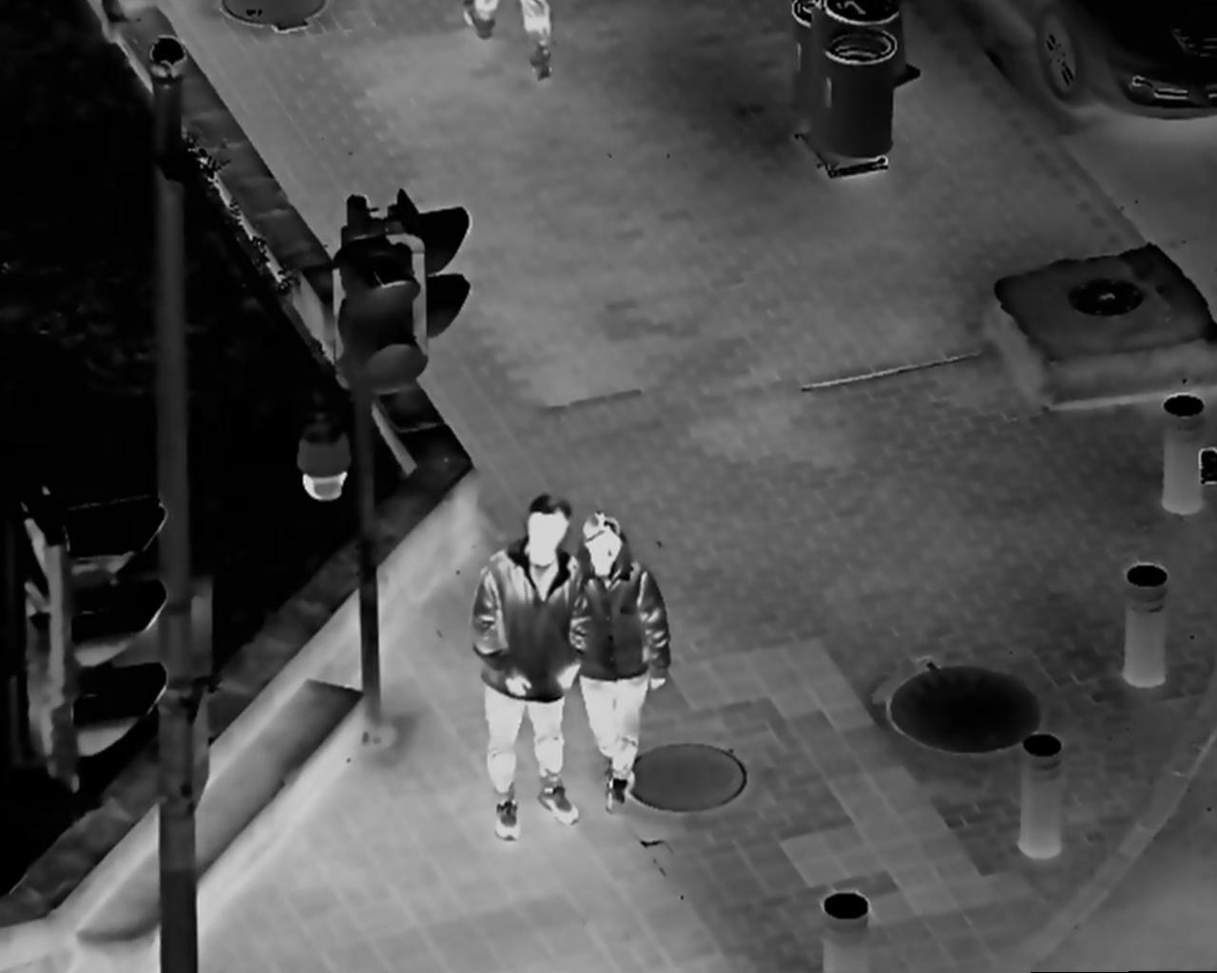person: (463, 490, 584, 841), (564, 511, 680, 825)
